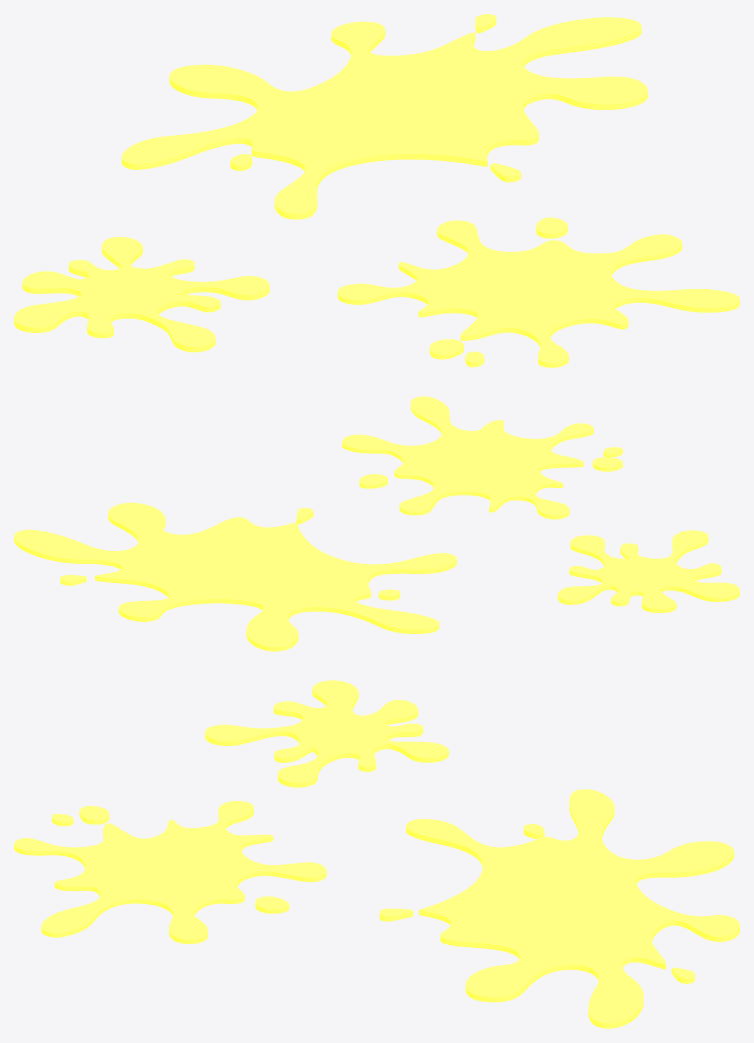
Rendered from starfire.gltf.
3 views of the same model, one above another, from view 1: azimuth 30°, elevation 25°; view 2: azimuth 150°, elevation 25°; view 3: azimuth 270°, elevation 25° (orthographic). The views are drawn at different scales.
Parts seen in each view (by area): view 1: starfire_maxi, starfire_midi, starfire_mini; view 2: starfire_maxi, starfire_midi, starfire_mini; view 3: starfire_maxi, starfire_midi, starfire_mini.
Boxes of the visible parts, left/top/right/bottom form: starfire_maxi: left=121, top=14, right=647, bottom=219; starfire_midi: left=337, top=217, right=739, bottom=367; starfire_mini: left=14, top=237, right=269, bottom=352; starfire_maxi: left=14, top=502, right=456, bottom=651; starfire_midi: left=342, top=396, right=622, bottom=519; starfire_mini: left=557, top=530, right=739, bottom=613; starfire_maxi: left=379, top=789, right=739, bottom=1028; starfire_midi: left=14, top=801, right=326, bottom=943; starfire_mini: left=205, top=680, right=448, bottom=787.
Bounding box in the file's own units: 22.52 × 0.1576 × 20.12.
